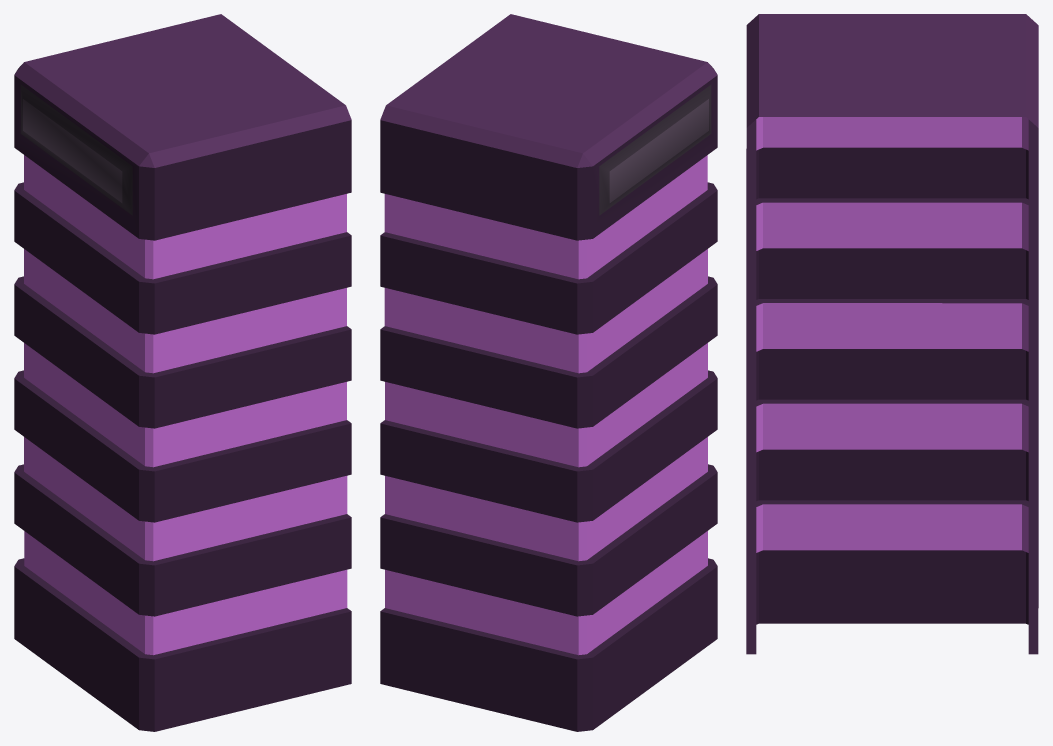
The model's file is portalLoading.fbx.
3 renders of one model, left to right at view 1: azimuth 30°, elevation 25°; view 2: azimuth 150°, elevation 25°; view 3: azimuth 270°, elevation 25°, orthographic. The views are drawn at different scales.
Visible parts, largest first — view 1: portalLoading; view 2: portalLoading; view 3: portalLoading.
Boxes of the visible parts, <box> form: portalLoading: <box>14,14,351,731</box>; portalLoading: <box>380,14,717,731</box>; portalLoading: <box>746,14,1038,654</box>.
Bounding box in the file's own units: 71.8 × 187 × 80.35.
